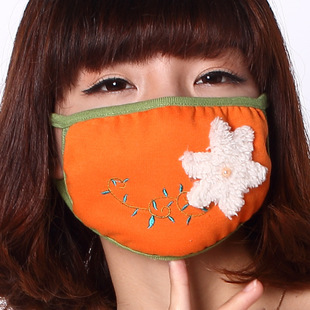face_mask: (56, 11, 269, 255)
